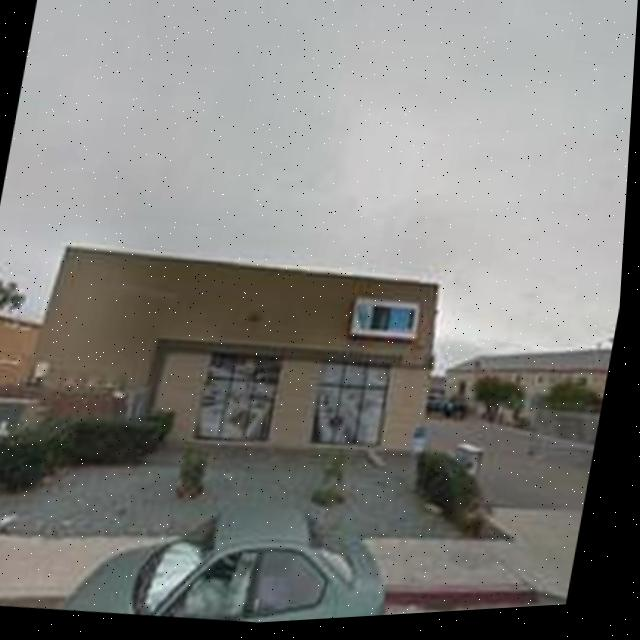building: (14, 219, 457, 482), (437, 328, 613, 422)
